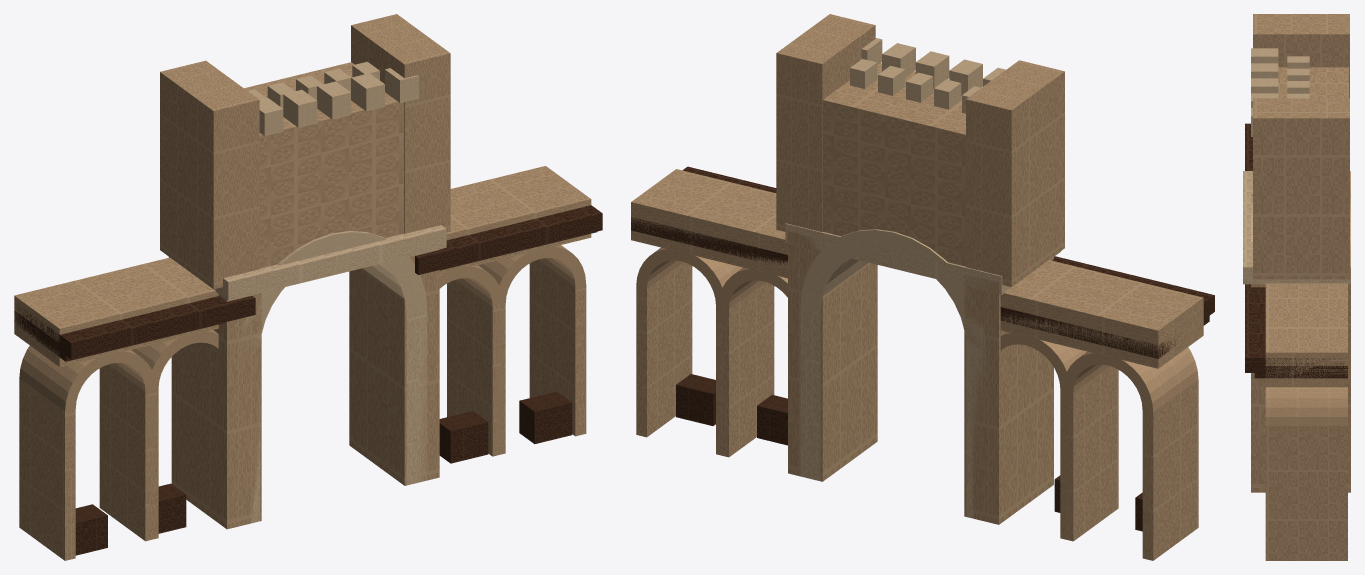
The model's file is Berber_market_age03_0_3_1_courtyard_kit.fbx.
3 renders of one model, left to right at view 1: azimuth 30°, elevation 25°; view 2: azimuth 150°, elevation 25°; view 3: azimuth 270°, elevation 25°, orthographic. The views are drawn at different scales.
Visible parts, largest first — view 1: left courtyard arcade bay 1, Portal left lookout tower, Portal upper mass, Portal left buttress, Portal right buttress, Portal right lookout tower, right courtyard arcade bay 2, left continuous arcade parapet, right courtyard arcade bay 1, Portal deep horseshoe gate, right continuous arcade parapet, left pitched timber awning (+13 smaller); view 2: Portal upper mass, left courtyard arcade bay 1, Portal left lookout tower, Portal left buttress, Portal right buttress, left continuous arcade parapet, Portal right lookout tower, Portal deep horseshoe gate, right courtyard arcade bay 2, right continuous arcade parapet, right courtyard arcade bay 1, Gate carved lintel (+9 smaller); view 3: Portal right lookout tower, right courtyard arcade bay 2, right continuous arcade parapet, Portal left lookout tower, Portal right buttress, right pitched timber awning, Gate carved lintel, Portal upper mass, right cedar shade beam, Portal crenellation 1, Portal crenellation 2, Portal crenellation 3 (+5 smaller).
Boxes of the visible parts, left/top/right/bottom form: left courtyard arcade bay 1: left=19, top=345, right=156, bottom=560; Portal left lookout tower: left=160, top=60, right=259, bottom=289; Portal upper mass: left=244, top=62, right=403, bottom=268; Portal left buttress: left=171, top=293, right=261, bottom=529; Portal right buttress: left=349, top=249, right=439, bottom=485; Portal right lookout tower: left=351, top=14, right=450, bottom=233; right courtyard arcade bay 2: left=478, top=245, right=586, bottom=455; left continuous arcade parapet: left=14, top=257, right=218, bottom=366; right courtyard arcade bay 1: left=439, top=265, right=503, bottom=456; Portal deep horseshoe gate: left=239, top=231, right=427, bottom=523; right continuous arcade parapet: left=439, top=166, right=591, bottom=274; left pitched timber awning: left=16, top=296, right=255, bottom=359; Portal upper mass: left=822, top=63, right=965, bottom=266; left courtyard arcade bay 1: left=1062, top=347, right=1198, bottom=560; Portal left lookout tower: left=966, top=60, right=1064, bottom=286; Portal left buttress: left=964, top=257, right=1053, bottom=524; Portal right buttress: left=788, top=231, right=877, bottom=481; left continuous arcade parapet: left=1000, top=260, right=1203, bottom=368; Portal right lookout tower: left=776, top=14, right=875, bottom=231; Portal deep horseshoe gate: left=800, top=229, right=986, bottom=518; right courtyard arcade bay 2: left=636, top=247, right=742, bottom=454; right continuous arcade parapet: left=631, top=169, right=787, bottom=278; right courtyard arcade bay 1: left=718, top=267, right=787, bottom=457; Gate carved lintel: left=785, top=223, right=1060, bottom=294; Portal right lookout tower: left=1253, top=98, right=1349, bottom=279; right courtyard arcade bay 2: left=1265, top=387, right=1347, bottom=560; right continuous arcade parapet: left=1265, top=283, right=1347, bottom=387; Portal left lookout tower: left=1253, top=14, right=1349, bottom=98; Portal right buttress: left=1251, top=284, right=1350, bottom=492; right pitched timber awning: left=1245, top=284, right=1344, bottom=372; Gate carved lintel: left=1243, top=171, right=1350, bottom=284; Portal upper mass: left=1278, top=67, right=1348, bottom=98; right cedar shade beam: left=1254, top=366, right=1347, bottom=378; Portal crenellation 1: left=1251, top=48, right=1278, bottom=63; Portal crenellation 2: left=1251, top=63, right=1278, bottom=78; Portal crenellation 3: left=1251, top=78, right=1278, bottom=93.
Size of the model in its own units: 565 by 427 by 110.
Materials: 3 (3 with a texture image).
